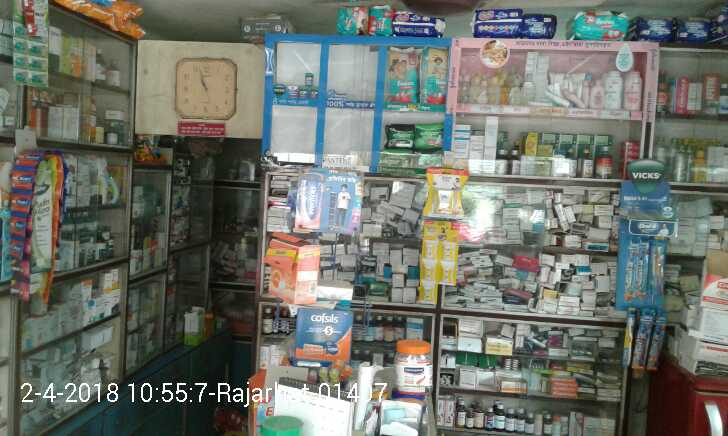oralcare: (625, 217, 667, 379)
vicks: (287, 71, 318, 101)
